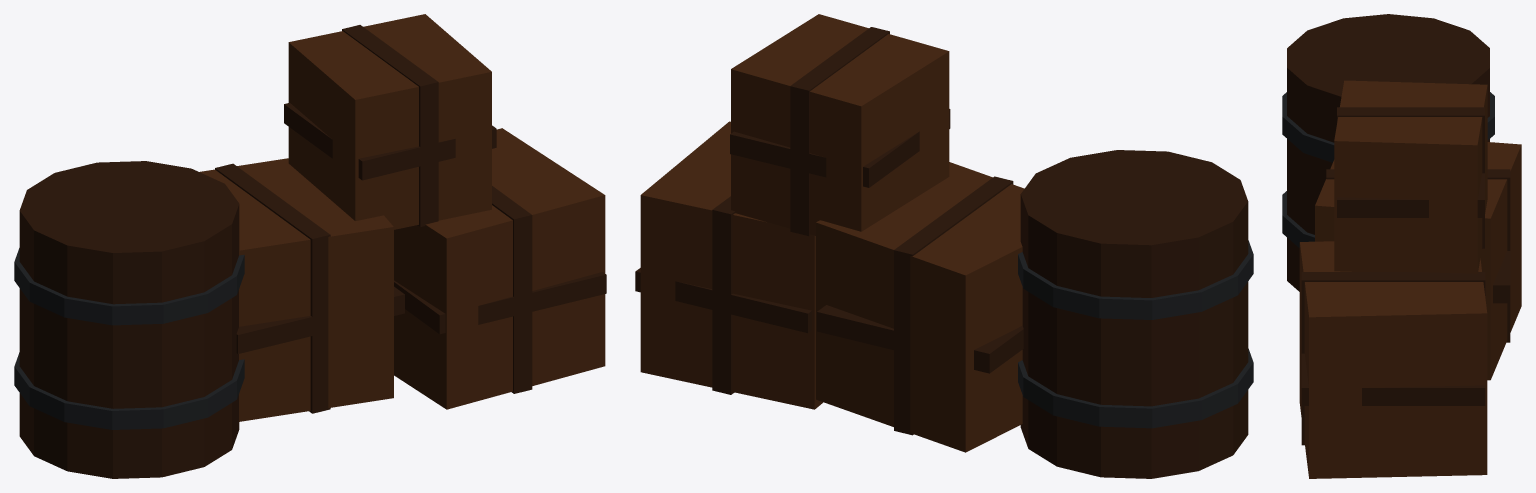
File: Crates_A.obj
3 renders of one model, left to right at view 1: azimuth 30°, elevation 25°; view 2: azimuth 150°, elevation 25°; view 3: azimuth 270°, elevation 25°, orthographic. The views are drawn at different scales.
Parts seen in each view (by area): view 1: Barrel, Crate1, Crate2, Crate0, BarrelBand1, BarrelBand2, Band0B, Band1B, Band2B, Band1A, Band2A, Band0A; view 2: Barrel, Crate0, Crate2, Crate1, BarrelBand1, BarrelBand2, Band0B, Band2B, Band1B, Band0A, Band2A, Band1A; view 3: Crate1, Crate2, Barrel, Crate0, Band1A, Band1B, Band2A, Band2B, BarrelBand2, Band0B, Band0A, BarrelBand1.
Part boxes in pixels (<box>): Barrel: <box>19,161,239,478</box>; Crate1: <box>394,128,605,409</box>; Crate2: <box>288,14,491,229</box>; Crate0: <box>199,158,393,421</box>; BarrelBand1: <box>14,352,244,429</box>; BarrelBand2: <box>14,248,244,325</box>; Band0B: <box>215,163,330,413</box>; Band1B: <box>492,186,532,393</box>; Band2B: <box>342,25,438,226</box>; Band1A: <box>394,272,606,334</box>; Band2A: <box>284,102,496,180</box>; Band0A: <box>236,286,404,353</box>; Barrel: <box>1020,150,1248,478</box>; Crate0: <box>816,162,1024,452</box>; Crate2: <box>731,14,949,235</box>; Crate1: <box>640,121,823,409</box>; BarrelBand1: <box>1018,348,1253,428</box>; BarrelBand2: <box>1018,240,1253,319</box>; Band0B: <box>894,176,1013,435</box>; Band2B: <box>790,27,889,236</box>; Band1B: <box>712,196,735,394</box>; Band0A: <box>817,305,1023,373</box>; Band2A: <box>730,109,950,187</box>; Band1A: <box>635,268,811,333</box>; Crate1: <box>1299,241,1487,478</box>; Crate2: <box>1334,80,1487,273</box>; Barrel: <box>1287,14,1489,291</box>; Crate0: <box>1315,142,1521,380</box>; Band1A: <box>1301,353,1485,405</box>; Band1B: <box>1301,272,1485,445</box>; Band2A: <box>1337,173,1484,217</box>; Band2B: <box>1337,107,1484,248</box>; BarrelBand2: <box>1282,92,1494,162</box>; Band0B: <box>1326,169,1510,342</box>; Band0A: <box>1493,251,1510,303</box>; BarrelBand1: <box>1282,191,1314,247</box>.
Bounding box in the file's own units: 2.35 × 1.31 × 0.966.
